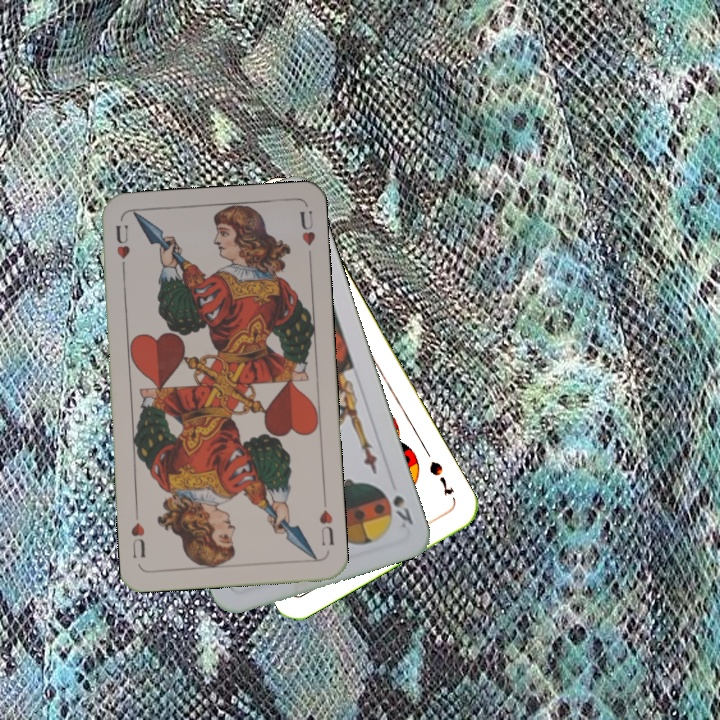HU: (112, 221, 132, 276), (315, 506, 337, 548)
S7: (425, 457, 457, 499)
SK: (389, 491, 416, 531)
